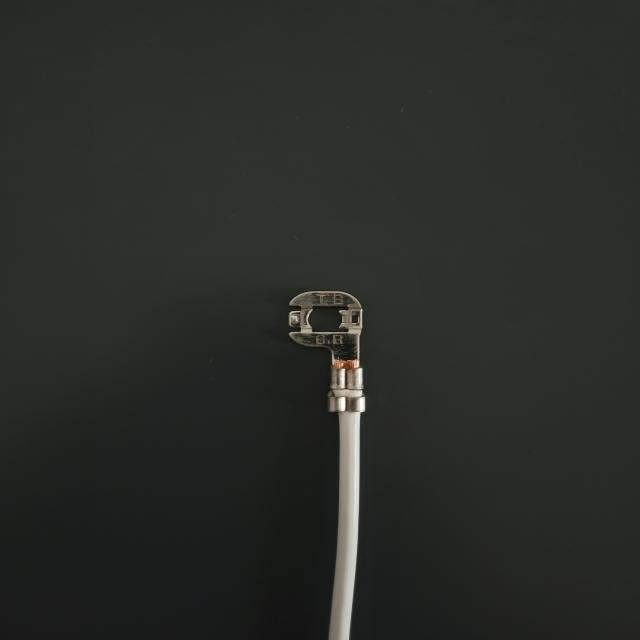good: (4, 0, 639, 640)
